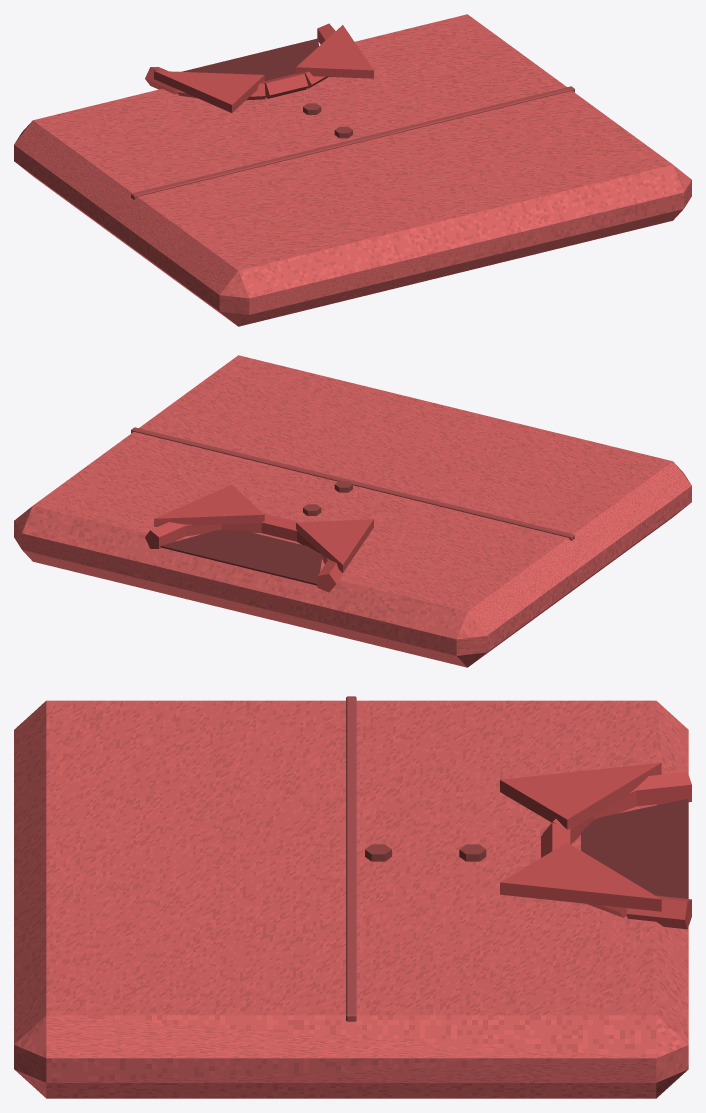
Rendered from polo_shirt.glb.
3 views of the same model, one above another, from view 1: azimuth 30°, elevation 25°; view 2: azimuth 150°, elevation 25°; view 3: azimuth 270°, elevation 25° (orthographic). The views are drawn at different scales.
Parts seen in each view (by area): view 1: block_body, block_point-1, block_fold, block_point1, block_neckhole, block_neck3; view 2: block_body, block_neckhole, block_point1, block_point-1, block_fold, block_neck0, block_neck3, block_neck6; view 3: block_body, block_neckhole, block_point1, block_point-1, block_fold, block_neck6, block_neck0, block_neck3.
Part boxes in pixels (x1,y1,x2,y2): block_body: (14, 14, 691, 326); block_point-1: (154, 71, 264, 112); block_fold: (131, 86, 574, 199); block_point1: (296, 25, 373, 78); block_neckhole: (181, 38, 318, 80); block_neck3: (263, 73, 308, 98); block_body: (14, 355, 691, 667); block_neckhole: (160, 529, 321, 585); block_point1: (154, 485, 264, 526); block_point-1: (296, 519, 373, 572); block_fold: (131, 427, 574, 540); block_neck0: (145, 522, 185, 548); block_neck3: (261, 514, 299, 541); block_neck6: (317, 560, 347, 592); block_body: (14, 700, 688, 1098); block_neckhole: (581, 798, 688, 898); block_point1: (500, 842, 661, 911); block_point-1: (500, 762, 661, 829); block_fold: (346, 696, 356, 1021); block_neck6: (635, 772, 691, 806); block_neck0: (626, 895, 691, 929); block_neck3: (541, 822, 570, 857).
Size of the model in its own units: 0.3 by 0.045 by 0.2512.
1 material, 1 textured.
